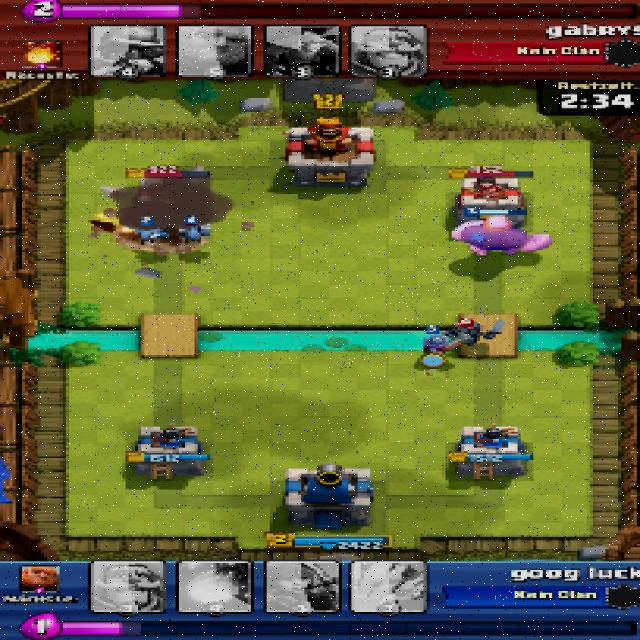Enemy-MiniPEKKA: (445, 317, 504, 344)
Player-Giant: (448, 215, 554, 257)
Player-Minion: (176, 219, 209, 244), (132, 224, 166, 243)
Player-Musketeer: (421, 333, 472, 358)
